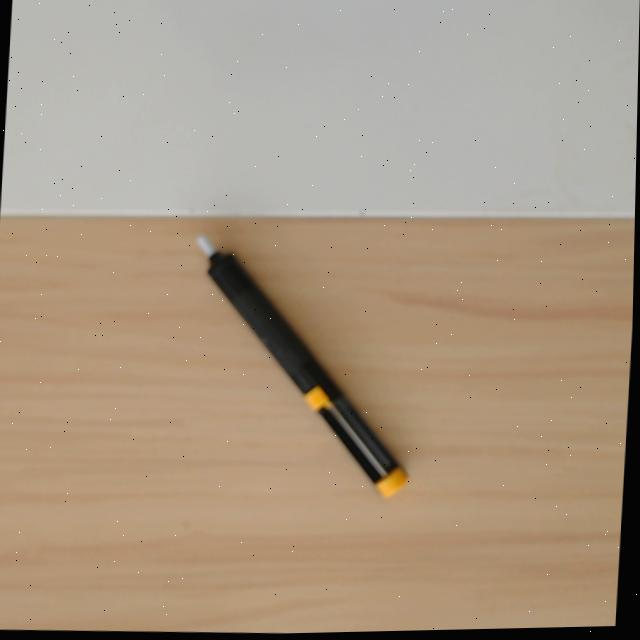Desoldering-Pump: (181, 224, 413, 504)
